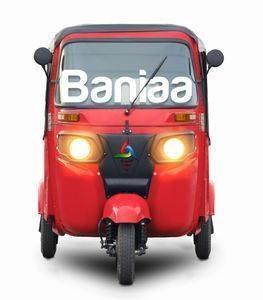keke: (36, 21, 222, 282)
